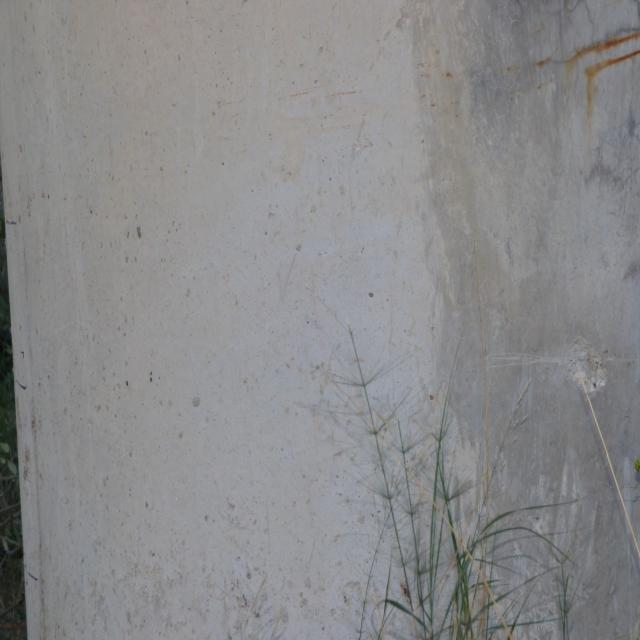corrosion: (517, 25, 640, 135)
